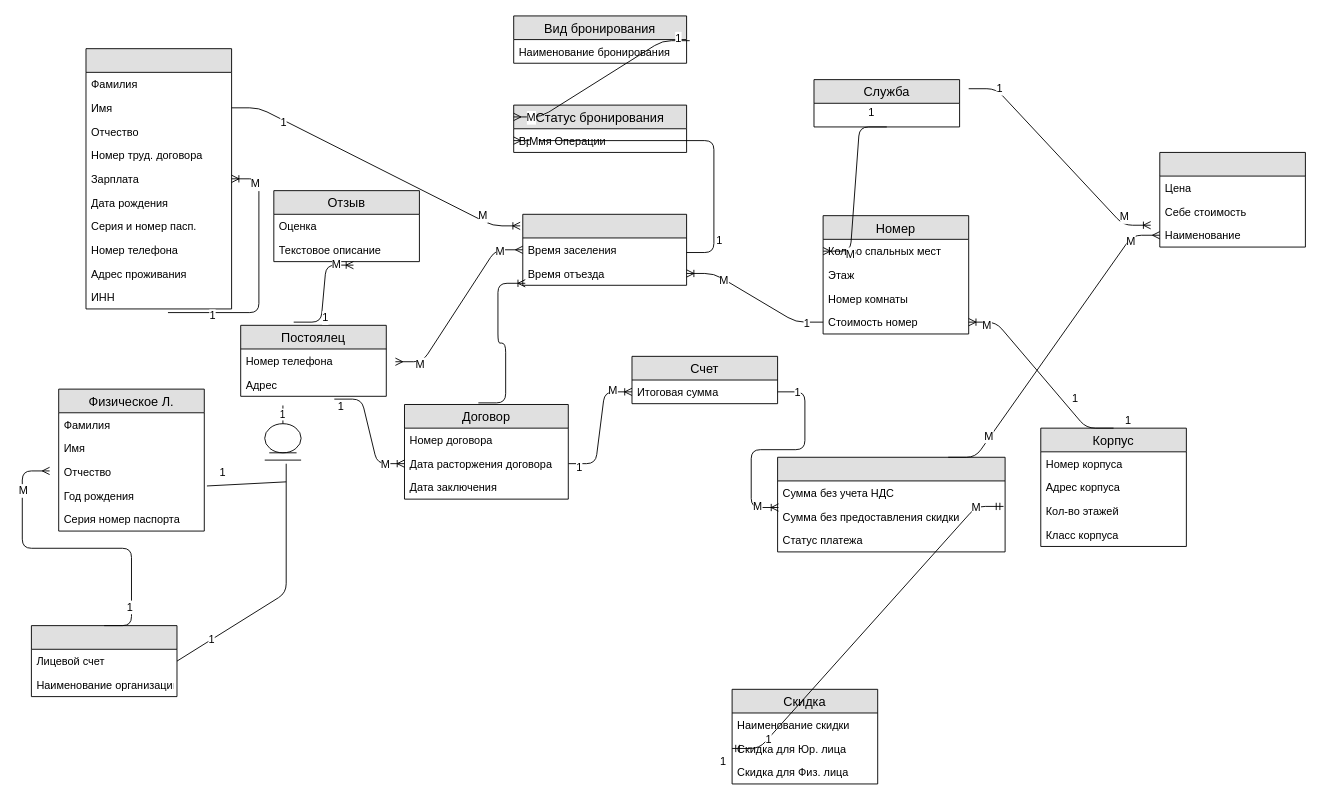
The diagram is 1321 pixels wide and 803 high, and some of its shapes have lost their labels. The shapes that lost their labels are listed below. From the top down, each one's box as (x1, y1, x2, y2) in pixels, then its label:
(85, 48, 232, 309): Сотрудник
(1159, 152, 1305, 247): Услуга
(522, 213, 687, 285): Бронирование
(777, 456, 1005, 552): Позиция счета
(30, 625, 177, 697): Юридическое Л.
